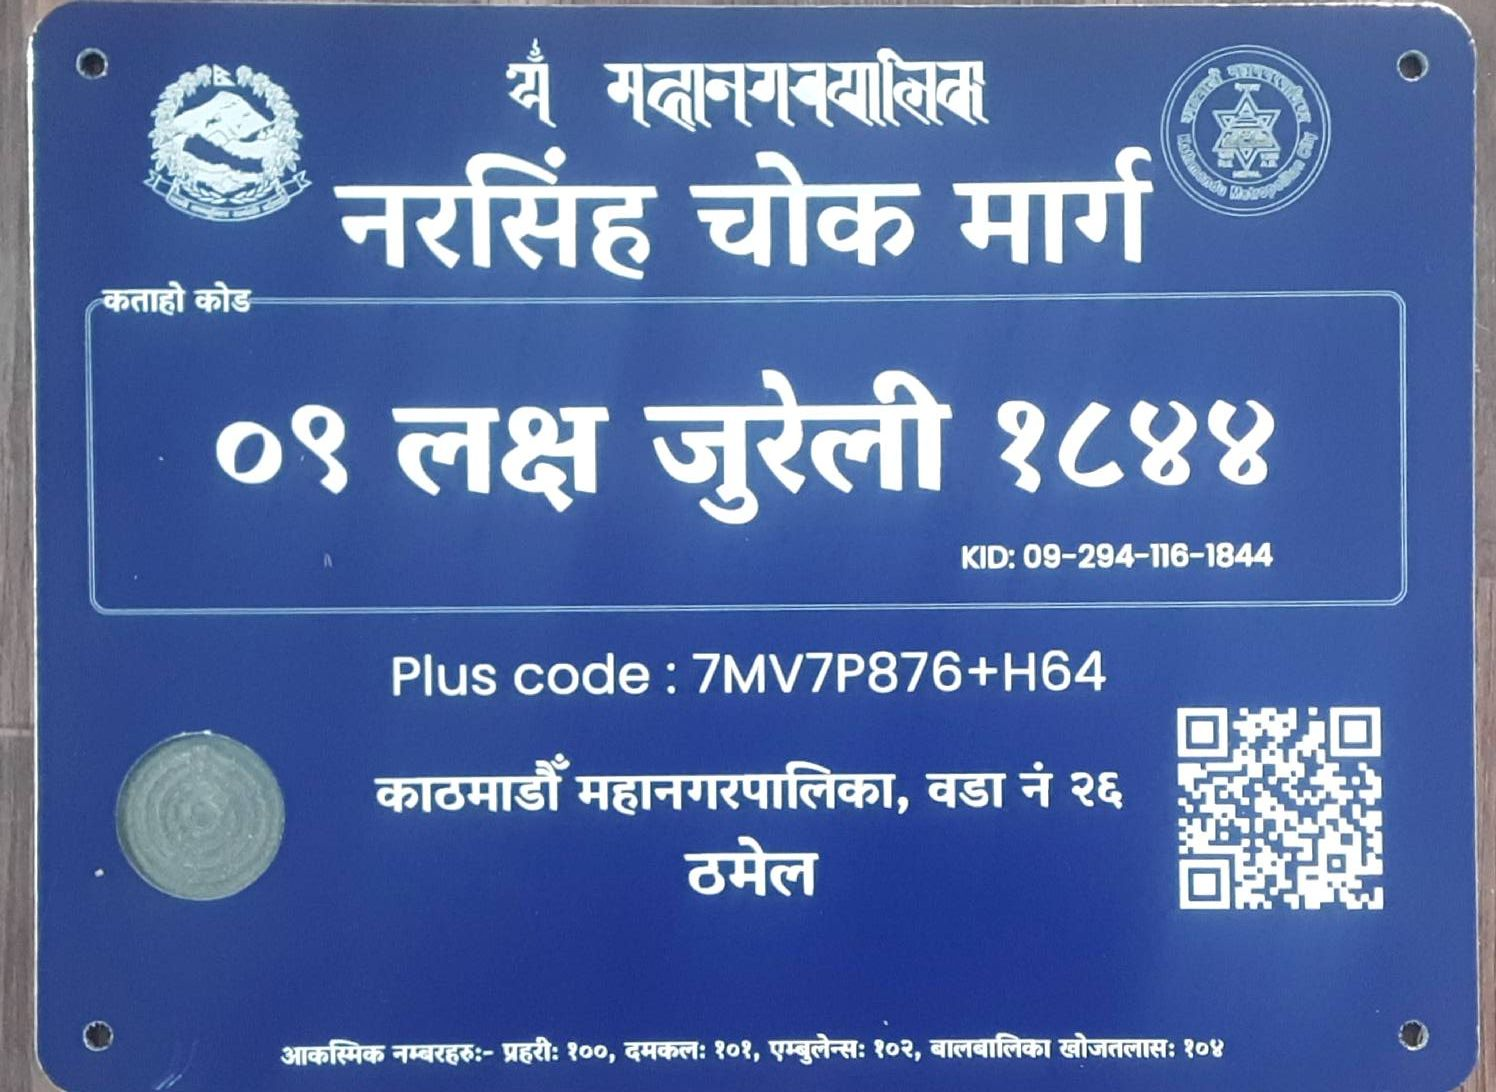Plate: (6, 4, 1495, 1092)
